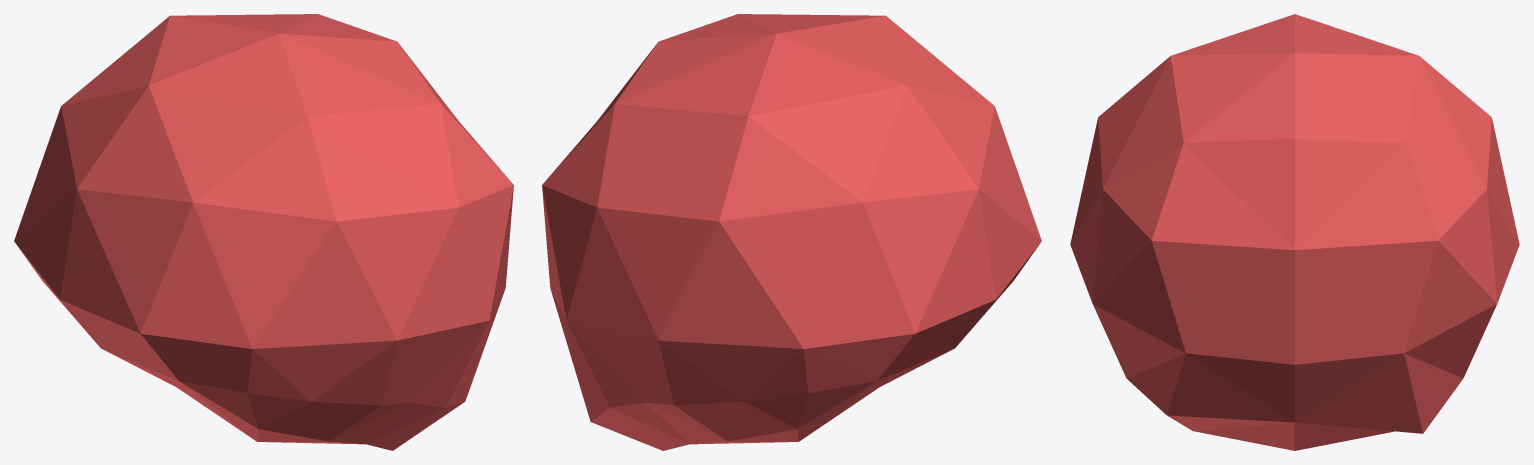
The model's file is Bat_afro.obj.
The picture shows the model from 3 angles, left to right: view 1: azimuth 30°, elevation 25°; view 2: azimuth 150°, elevation 25°; view 3: azimuth 270°, elevation 25°; orthographic projection. The views are drawn at different scales.
Visible parts, largest first — view 1: Bat_afro_tri; view 2: Bat_afro_tri; view 3: Bat_afro_tri.
Part boxes in pixels (bbox=[...]): Bat_afro_tri: bbox=[14, 14, 513, 450]; Bat_afro_tri: bbox=[542, 14, 1041, 450]; Bat_afro_tri: bbox=[1070, 14, 1519, 450].
Size of the model in its own units: 0.414 by 0.3948 by 0.4419.
1 material, 1 textured.
